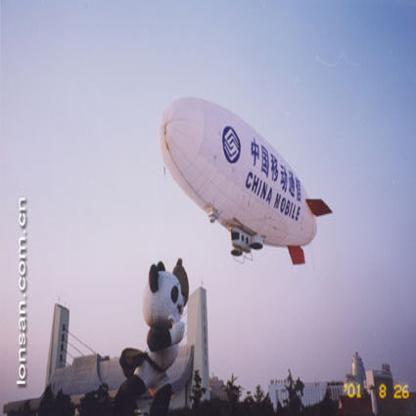Airship: (156, 95, 333, 273)
